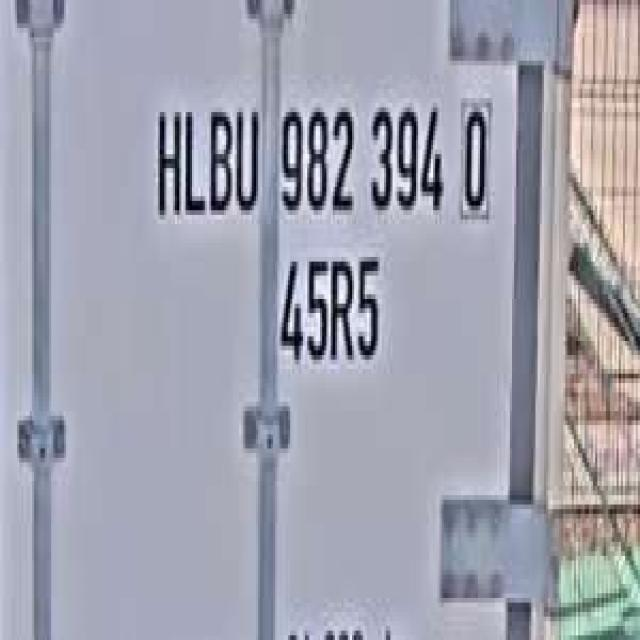dv: (454, 84, 495, 224)
owner: (150, 84, 262, 229)
serial: (273, 75, 446, 229)
size: (273, 238, 388, 374)
